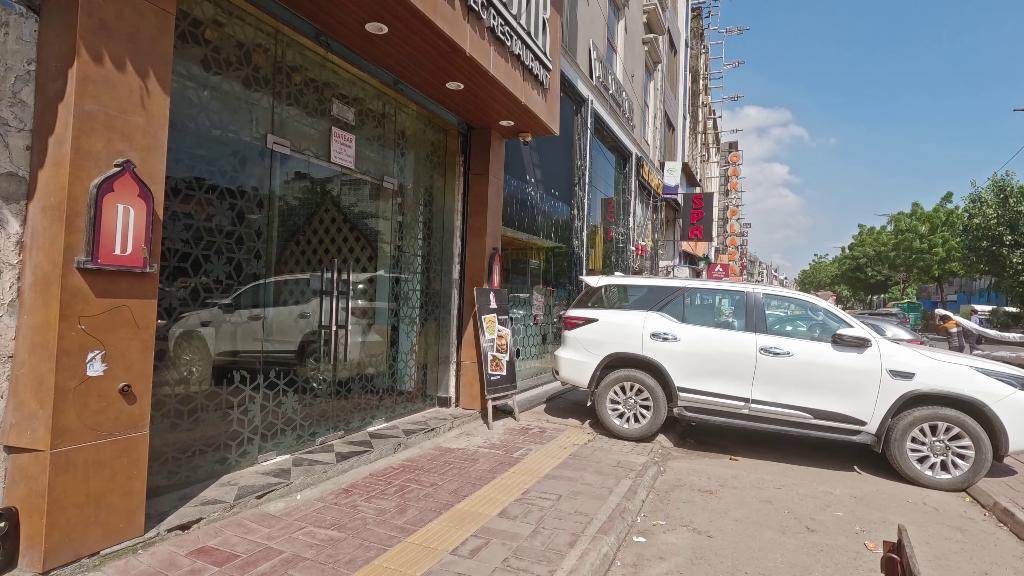garbage: (865, 539, 881, 555)
